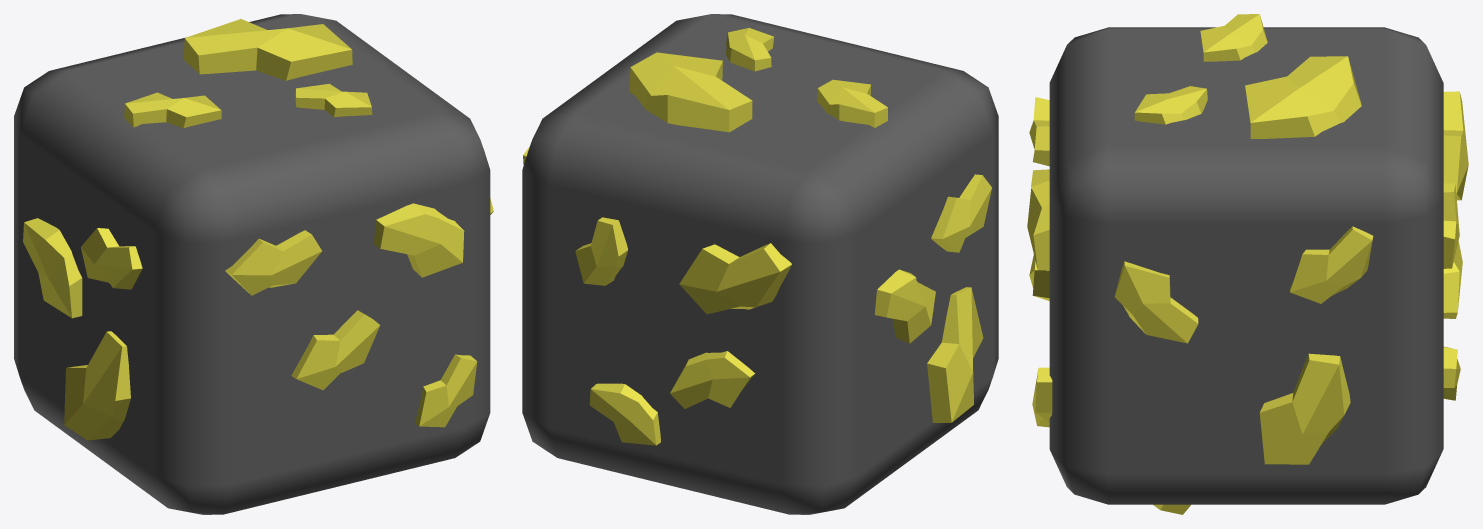
Rendered from SM_Chromite.fbx.
3 renders of one model, left to right at view 1: azimuth 30°, elevation 25°; view 2: azimuth 150°, elevation 25°; view 3: azimuth 270°, elevation 25°, orthographic. The views are drawn at different scales.
Parts seen in each view (by area): view 1: Cube.009; view 2: Cube.009; view 3: Cube.009.
Part boxes in pixels (<box>): Cube.009: <box>14,14,493,514</box>; Cube.009: <box>522,14,998,514</box>; Cube.009: <box>1027,14,1468,514</box>.
Bounding box in the file's own units: 231 × 234 × 227.
